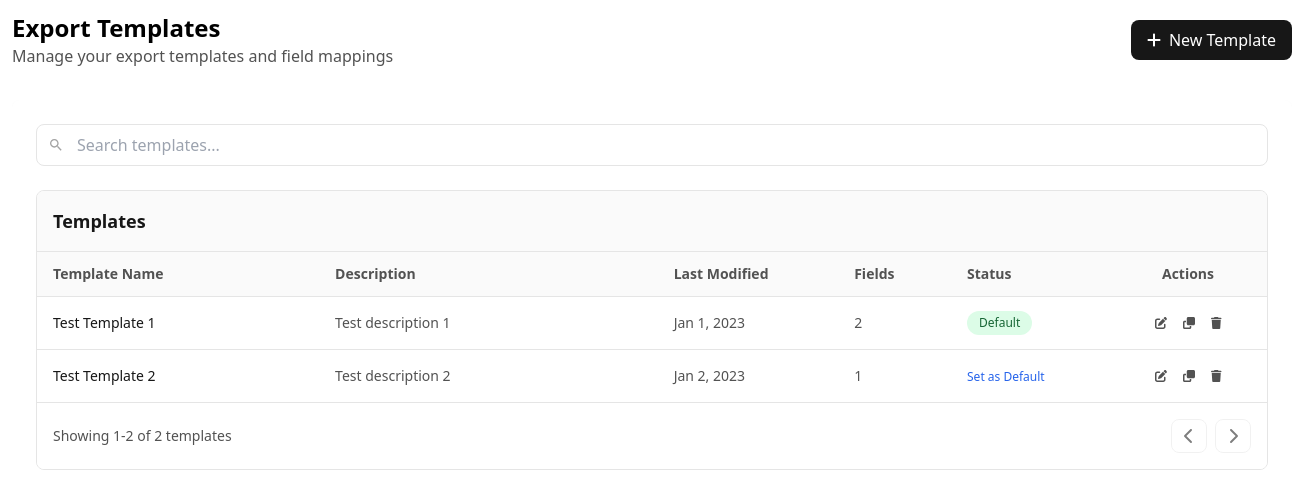
Test: ExportTemplatesPage › Template Duplication › should handle duplication errors
Expected: the text "Test Template 1" is shown, 53,313 -> 156,332
Step 1. Click the button titled "Duplicate" in the row of "Test Template 1" → (1189, 323), box 1177,309 -> 1201,337
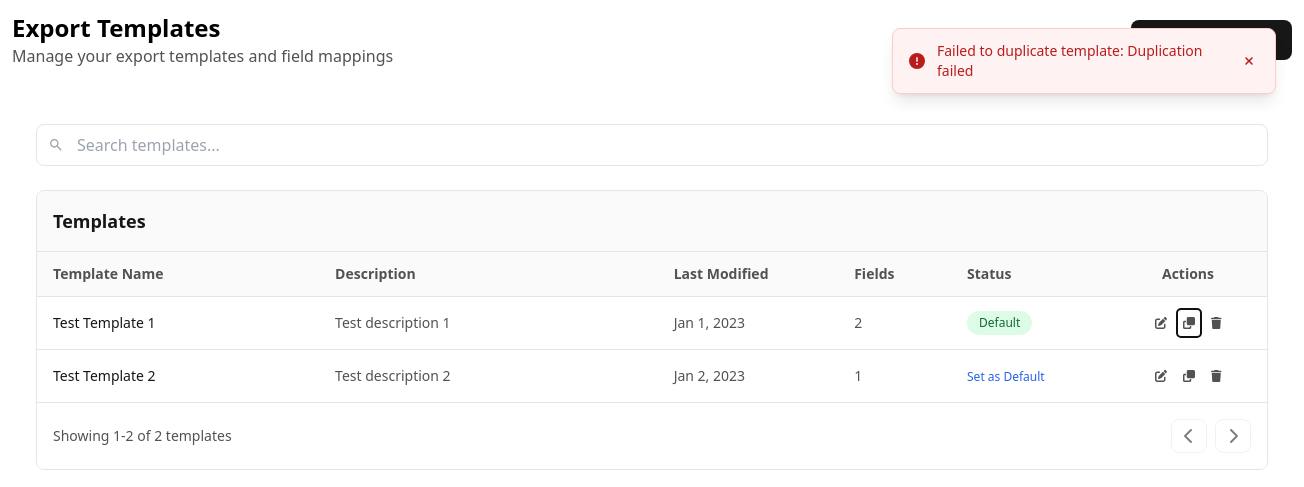
Result: the text "Failed to duplicate template: Duplication failed" is shown at 937,41 -> 1227,81
